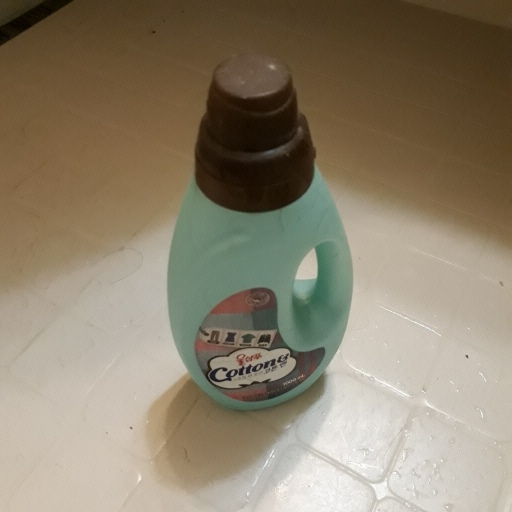Plastic_1: (165, 50, 355, 411)
